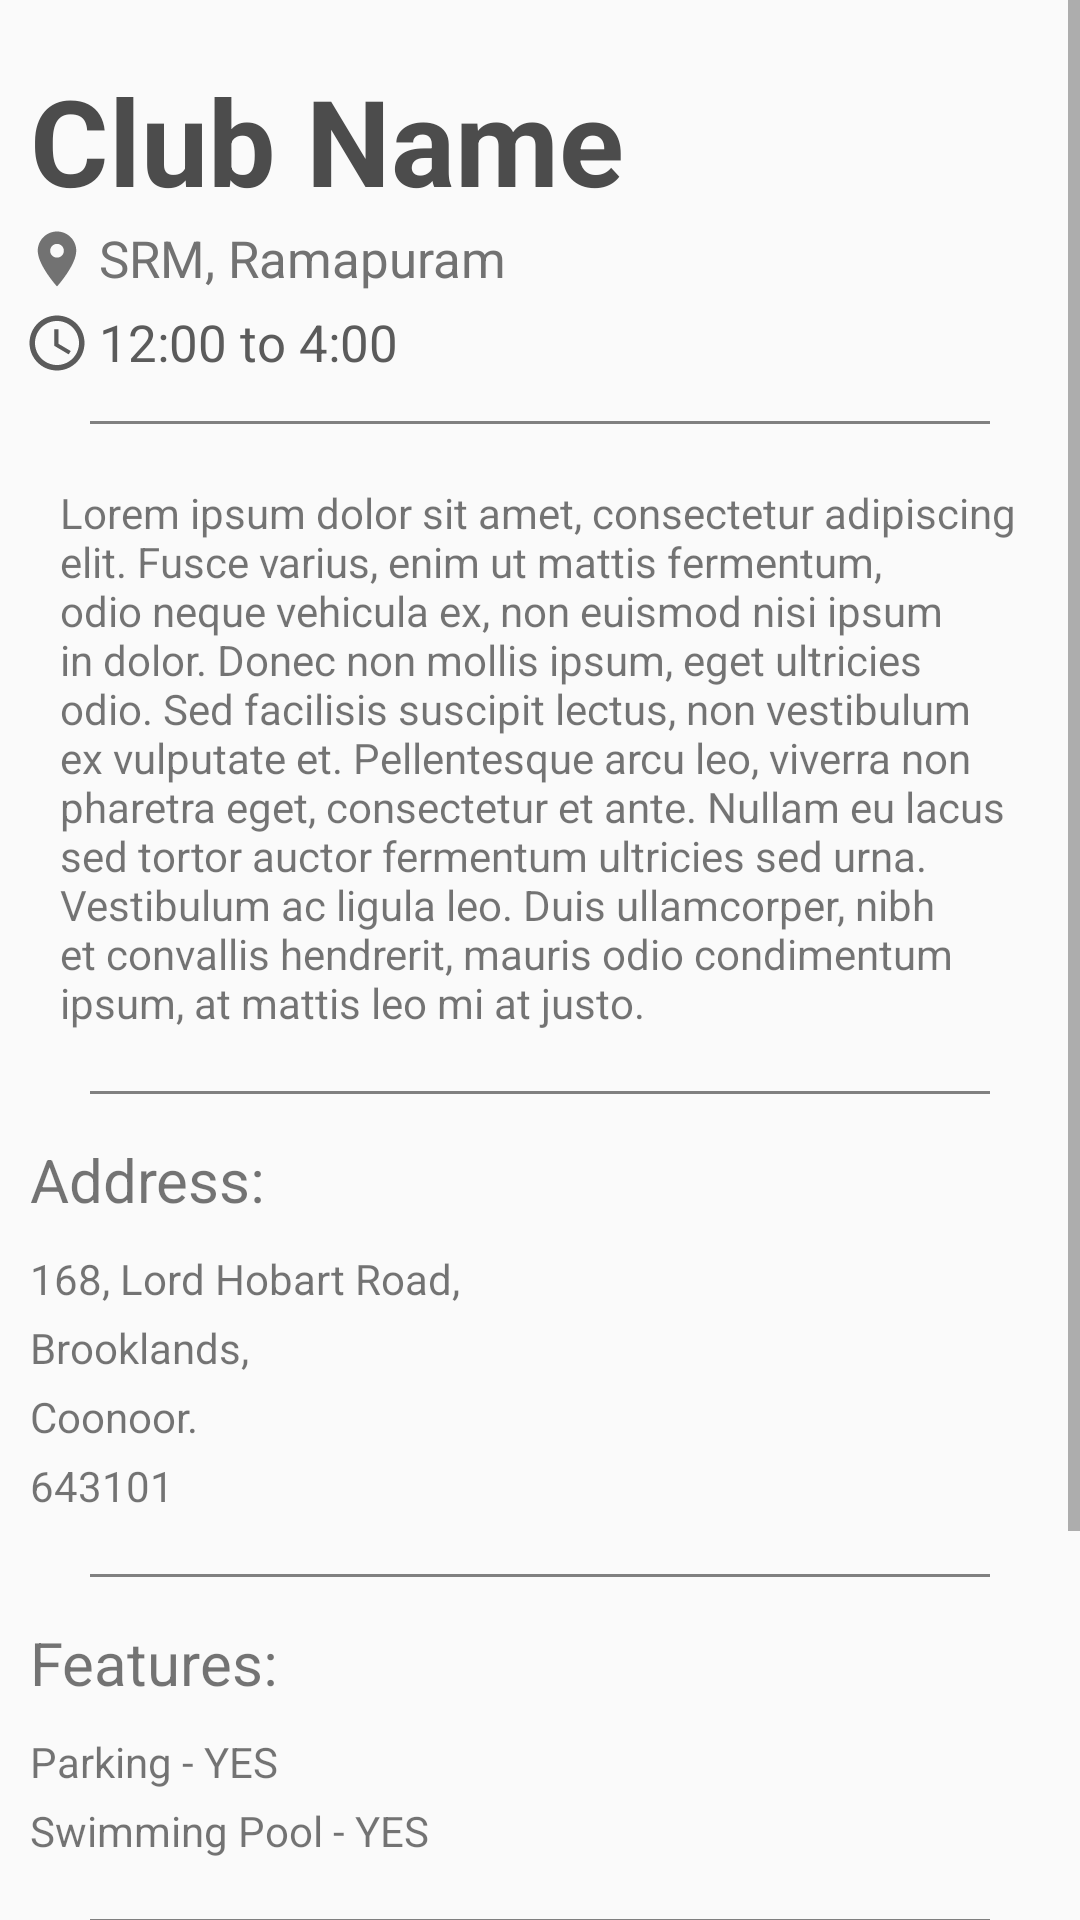

Point at icon controls on the screen. Image size 1080 x 1920, points as (x,y).
access time: (57,343)
location on: (57,258)
